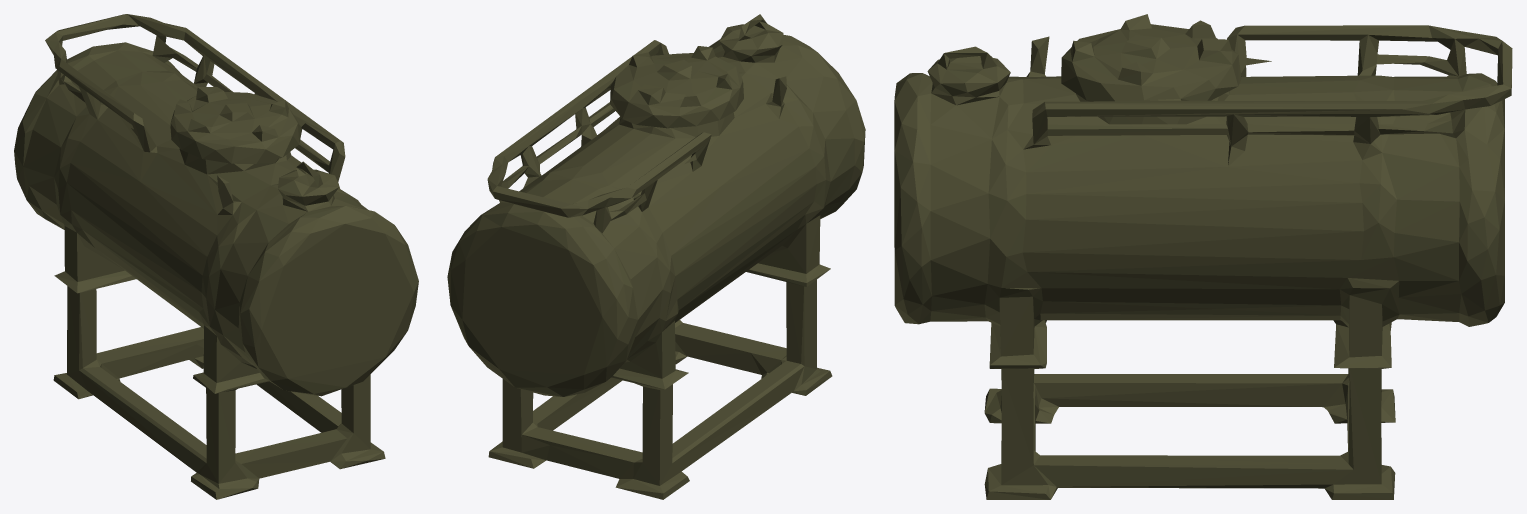
File: fueltank.glb
3 renders of one model, left to right at view 1: azimuth 30°, elevation 25°; view 2: azimuth 150°, elevation 25°; view 3: azimuth 270°, elevation 25°, orthographic. The views are drawn at different scales.
Parts seen in each view (by area): view 1: Mesh_0; view 2: Mesh_0; view 3: Mesh_0.
Boxes of the visible parts, box(x1,y1,x2,y2) form: Mesh_0: box(14, 14, 418, 499); Mesh_0: box(447, 14, 865, 499); Mesh_0: box(894, 14, 1512, 499).
Size of the model in its own units: 1.07 by 1.89 by 2.6.
